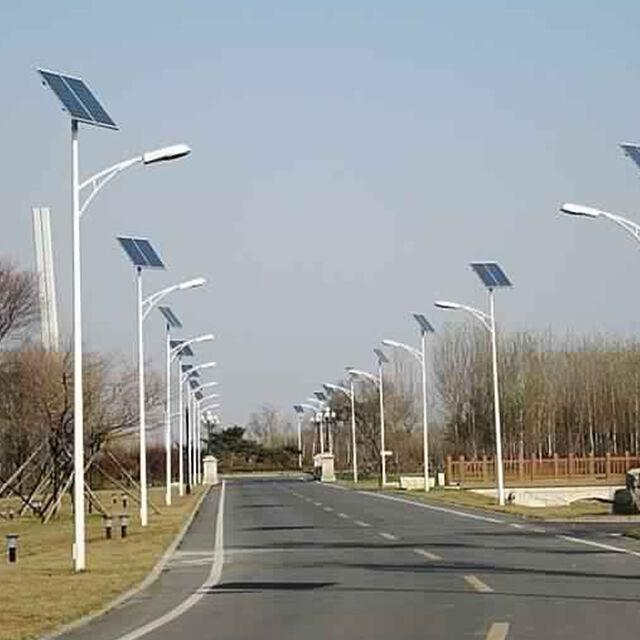Animal: (38, 73, 168, 608), (442, 244, 524, 503), (113, 224, 168, 531), (374, 315, 443, 475), (160, 317, 202, 489), (325, 375, 371, 480)
